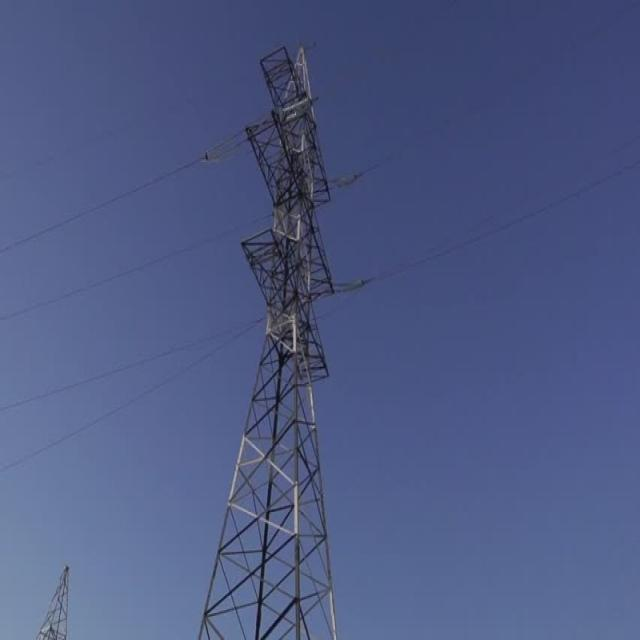non-critical vegetation: (192, 26, 358, 632)
